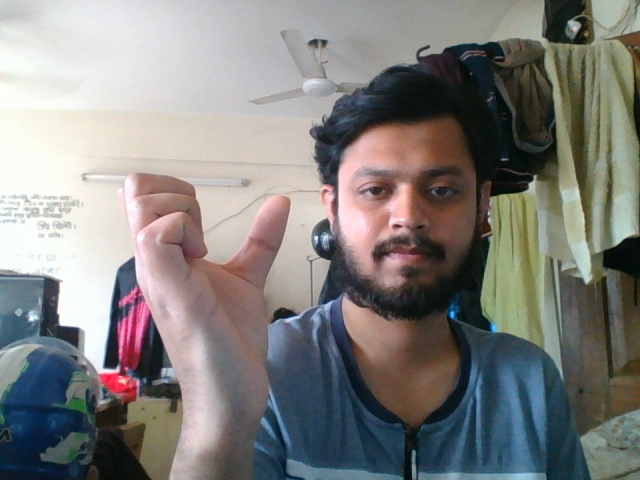kha: (116, 163, 300, 418)
